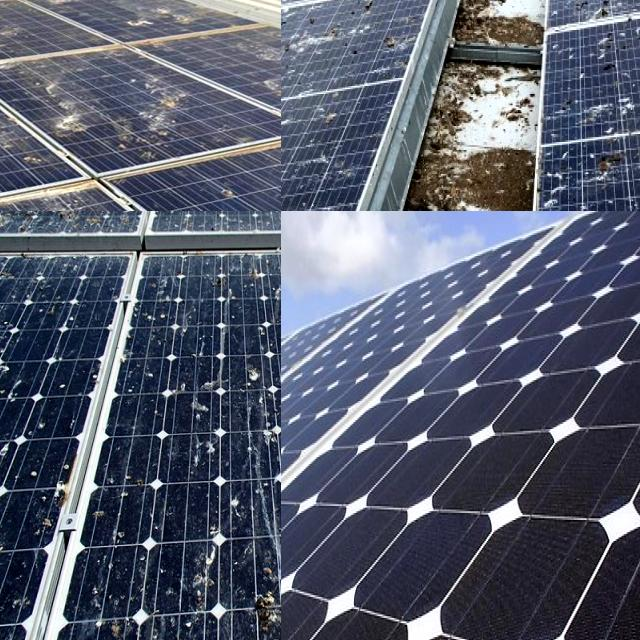bird: (0, 406, 54, 640), (219, 327, 281, 451), (34, 65, 101, 152), (93, 582, 187, 640), (0, 211, 156, 242), (183, 259, 281, 301), (142, 73, 199, 141), (281, 15, 351, 69), (0, 73, 45, 140), (238, 571, 281, 640), (589, 133, 640, 186), (194, 211, 281, 237), (582, 42, 626, 84), (568, 0, 621, 28), (281, 93, 298, 162), (0, 140, 30, 177), (318, 100, 342, 136), (381, 34, 404, 68), (281, 128, 296, 169)
crack: (281, 211, 640, 640)
